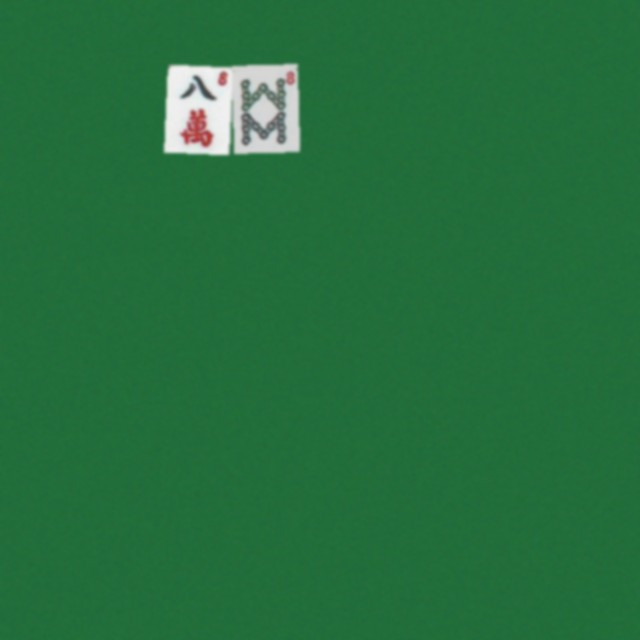tile: (164, 64, 230, 152), (231, 64, 297, 152)
